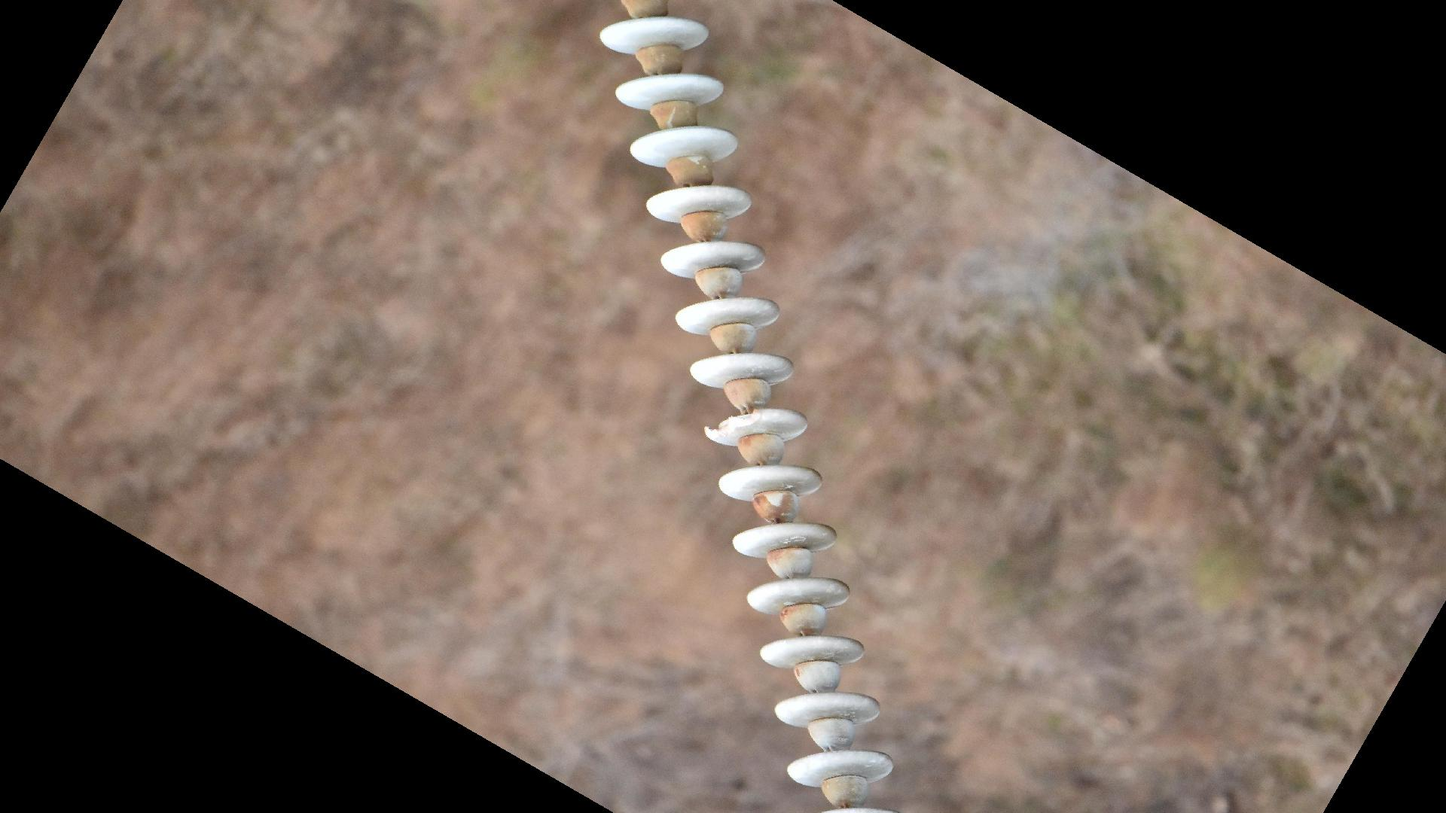insulator: (589, 12, 905, 813)
insulator_breakage: (700, 400, 769, 446)
